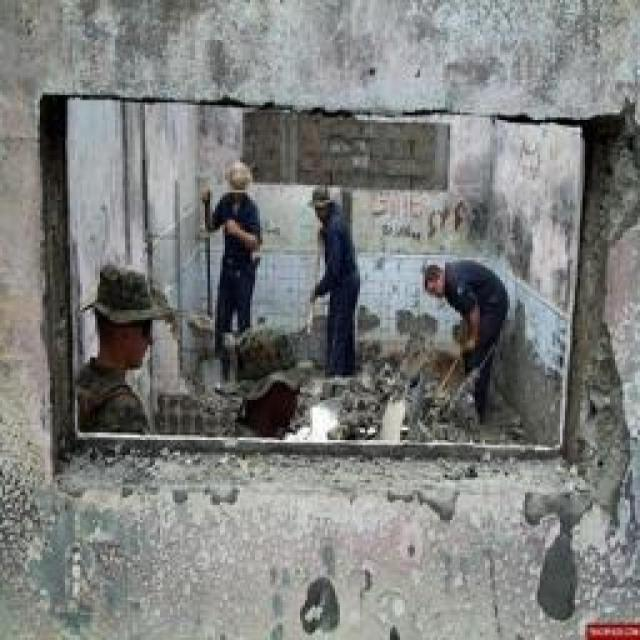Helmet: (69, 247, 184, 341), (72, 338, 154, 452), (306, 218, 372, 322), (205, 193, 264, 296), (451, 257, 515, 340), (290, 172, 349, 220), (408, 250, 457, 306), (219, 154, 261, 197)
